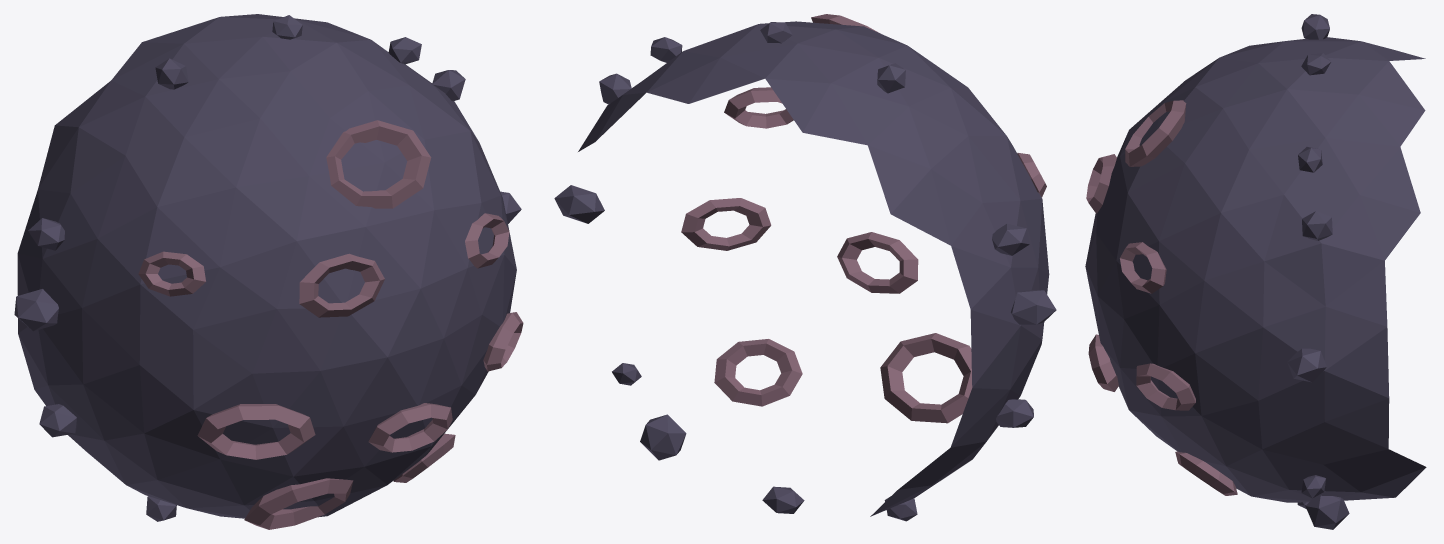
Rendered from moon.glb.
The picture shows the model from 3 angles, left to right: view 1: azimuth 30°, elevation 25°; view 2: azimuth 150°, elevation 25°; view 3: azimuth 270°, elevation 25°; orthographic projection. The views are drawn at different scales.
Parts seen in each view (by area): view 1: Moon, Crater3, Crater4, Crater7, Crater0, Crater5, Crater2, Crater1, Boulder6, Crater8, Boulder7, Crater6 (+4 smaller); view 2: Moon, Crater7, Crater6, Crater5, Crater8, Crater1, Boulder10, Boulder0, Boulder6, Boulder5, Boulder7, Boulder9 (+3 smaller); view 3: Moon, Crater3, Crater8, Crater1, Boulder10, Crater6, Crater0, Crater5, Boulder0, Boulder1, Boulder4, Boulder2 (+2 smaller).
Boxes of the visible parts, left/top/right/bottom form: Moon: left=17, top=14, right=516, bottom=518; Crater3: left=326, top=120, right=431, bottom=208; Crater4: left=197, top=404, right=315, bottom=459; Crater7: left=244, top=478, right=353, bottom=529; Crater0: left=299, top=253, right=384, bottom=317; Crater5: left=368, top=403, right=452, bottom=452; Crater2: left=138, top=251, right=205, bottom=296; Crater1: left=465, top=213, right=509, bottom=268; Boulder6: left=14, top=289, right=58, bottom=331; Crater8: left=483, top=312, right=523, bottom=371; Boulder7: left=39, top=404, right=77, bottom=437; Crater6: left=393, top=433, right=455, bottom=482; Moon: left=578, top=21, right=1049, bottom=516; Crater7: left=880, top=333, right=972, bottom=423; Crater6: left=714, top=339, right=802, bottom=406; Crater5: left=837, top=232, right=918, bottom=293; Crater8: left=681, top=198, right=771, bottom=250; Crater1: left=724, top=87, right=793, bottom=128; Boulder10: left=640, top=414, right=686, bottom=460; Boulder0: left=554, top=185, right=604, bottom=223; Boulder6: left=1010, top=290, right=1056, bottom=324; Boulder5: left=992, top=223, right=1029, bottom=255; Boulder7: left=996, top=399, right=1033, bottom=427; Boulder9: left=762, top=486, right=804, bottom=513; Moon: left=1085, top=37, right=1426, bottom=502; Crater3: left=1125, top=100, right=1186, bottom=166; Crater8: left=1136, top=363, right=1195, bottom=410; Crater1: left=1120, top=242, right=1166, bottom=293; Boulder10: left=1305, top=495, right=1349, bottom=529; Crater6: left=1175, top=451, right=1237, bottom=495; Crater0: left=1086, top=154, right=1116, bottom=213; Crater5: left=1088, top=334, right=1118, bottom=391; Boulder0: left=1287, top=348, right=1326, bottom=382; Boulder1: left=1302, top=211, right=1332, bottom=240; Boulder4: left=1301, top=14, right=1329, bottom=39; Boulder2: left=1298, top=147, right=1322, bottom=172.
Bounding box in the file's own units: 9 × 8.5 × 5.81.
